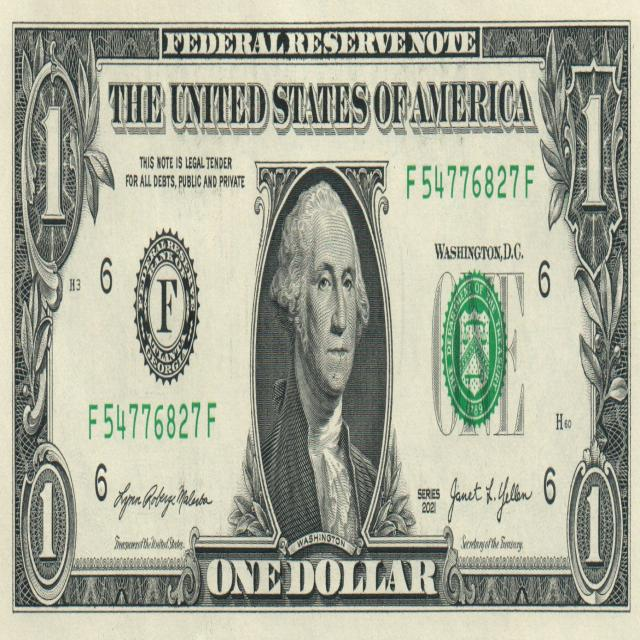SerialNumber: (89, 402, 216, 440), (407, 164, 534, 199)
